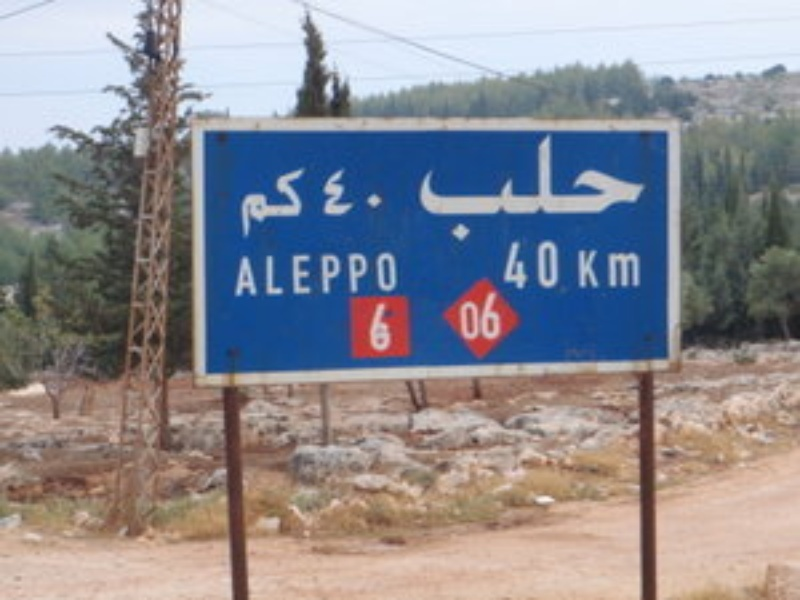text: (417, 131, 432, 243), (433, 131, 448, 243), (449, 131, 464, 243), (465, 131, 480, 243), (481, 131, 496, 243), (497, 131, 512, 243), (513, 131, 528, 243), (529, 131, 544, 243), (545, 131, 560, 243), (561, 131, 576, 243), (577, 131, 592, 243), (593, 131, 608, 243), (609, 131, 624, 243), (625, 131, 640, 243), (241, 169, 256, 241), (257, 169, 272, 241), (273, 169, 288, 241), (289, 169, 304, 241), (369, 299, 384, 358), (513, 238, 528, 294), (529, 238, 544, 294), (545, 238, 560, 294), (321, 166, 336, 222), (337, 166, 352, 222), (353, 166, 368, 222), (369, 166, 384, 222), (385, 249, 401, 299), (465, 289, 480, 342), (481, 289, 496, 342), (577, 243, 592, 294), (593, 243, 608, 294), (609, 243, 624, 294), (625, 243, 640, 294), (241, 249, 256, 299), (257, 249, 272, 299), (273, 249, 288, 299), (289, 249, 304, 299), (305, 249, 320, 299), (321, 249, 336, 299), (337, 249, 352, 299), (353, 249, 368, 299), (369, 249, 384, 299), (499, 238, 512, 294), (385, 299, 395, 358), (411, 131, 416, 243), (641, 131, 646, 243), (456, 289, 464, 342), (363, 299, 368, 358), (571, 243, 576, 294), (305, 169, 307, 241), (561, 238, 563, 294), (385, 166, 387, 222), (497, 289, 499, 342), (641, 243, 643, 294), (238, 249, 240, 299)
